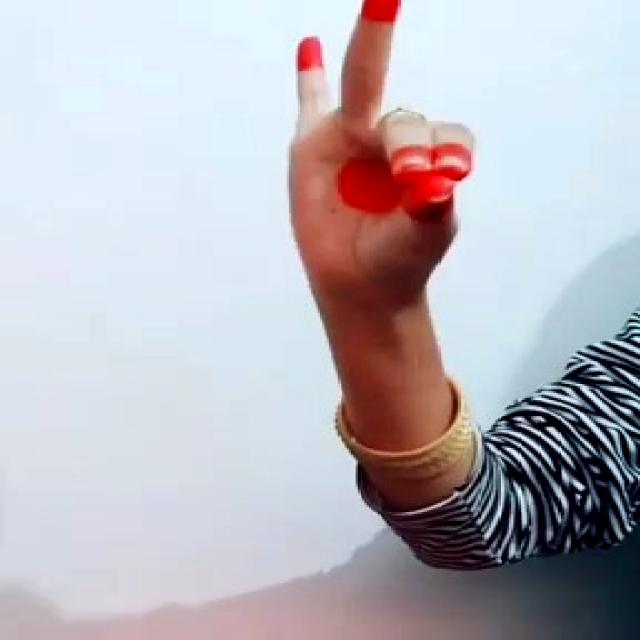Katakamukha: (250, 0, 513, 297)
bangle: (300, 371, 506, 489)
